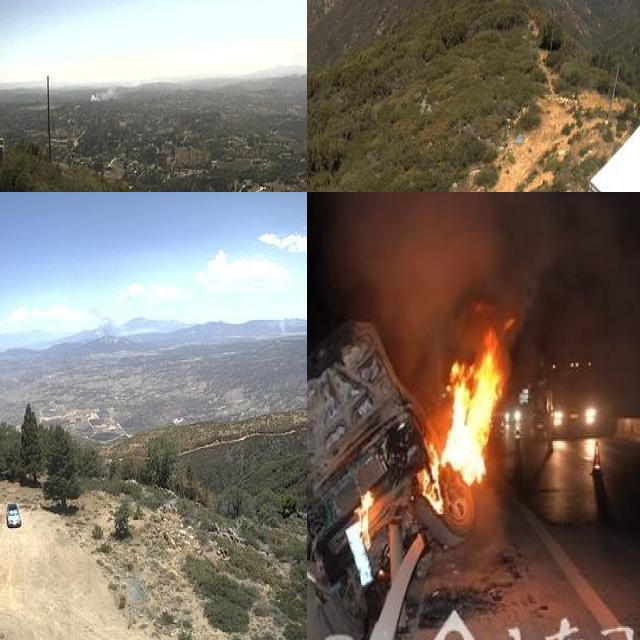fire: (430, 340, 509, 500), (354, 488, 381, 526)
smoke: (322, 192, 624, 331), (86, 74, 148, 102), (84, 301, 124, 344)
